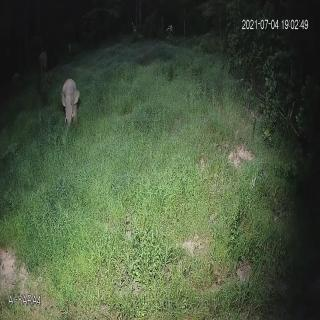Elephant: (62, 76, 82, 128), (38, 49, 49, 73)
